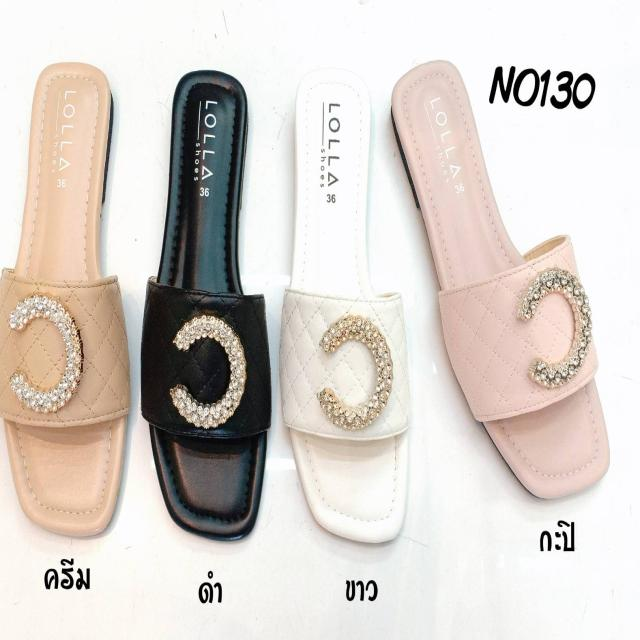black: (153, 68, 269, 534)
cream: (0, 62, 128, 535)
kapi: (392, 56, 612, 503)
white: (282, 79, 413, 539)
